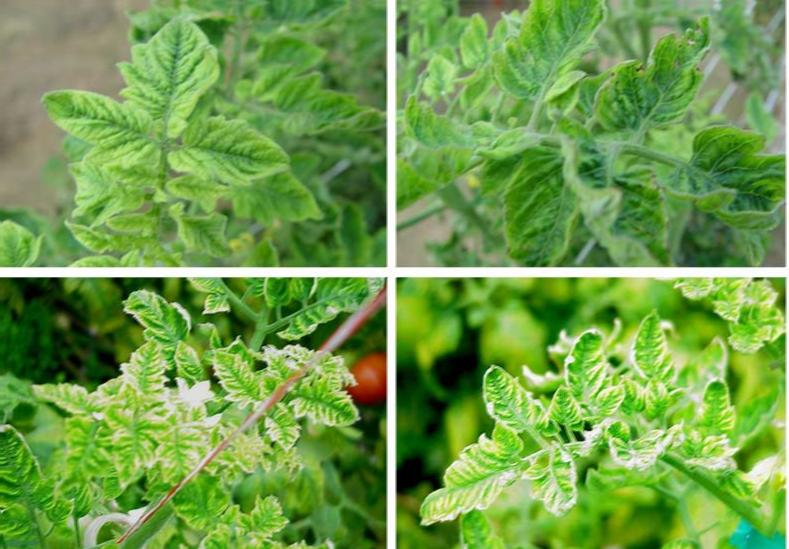Tomato leaf yellow virus: (638, 119, 783, 242), (587, 26, 714, 143), (126, 10, 224, 140), (479, 136, 580, 259), (413, 430, 543, 525), (500, 0, 610, 94), (33, 81, 153, 152), (178, 113, 309, 169), (509, 439, 583, 538), (474, 360, 551, 444), (563, 321, 625, 421), (0, 415, 57, 523), (104, 410, 162, 481), (631, 296, 673, 386), (291, 379, 360, 432), (177, 467, 232, 527), (207, 347, 259, 402), (118, 340, 163, 398), (242, 486, 288, 542), (696, 369, 730, 444), (543, 385, 591, 429), (173, 333, 204, 386), (640, 371, 672, 418)
